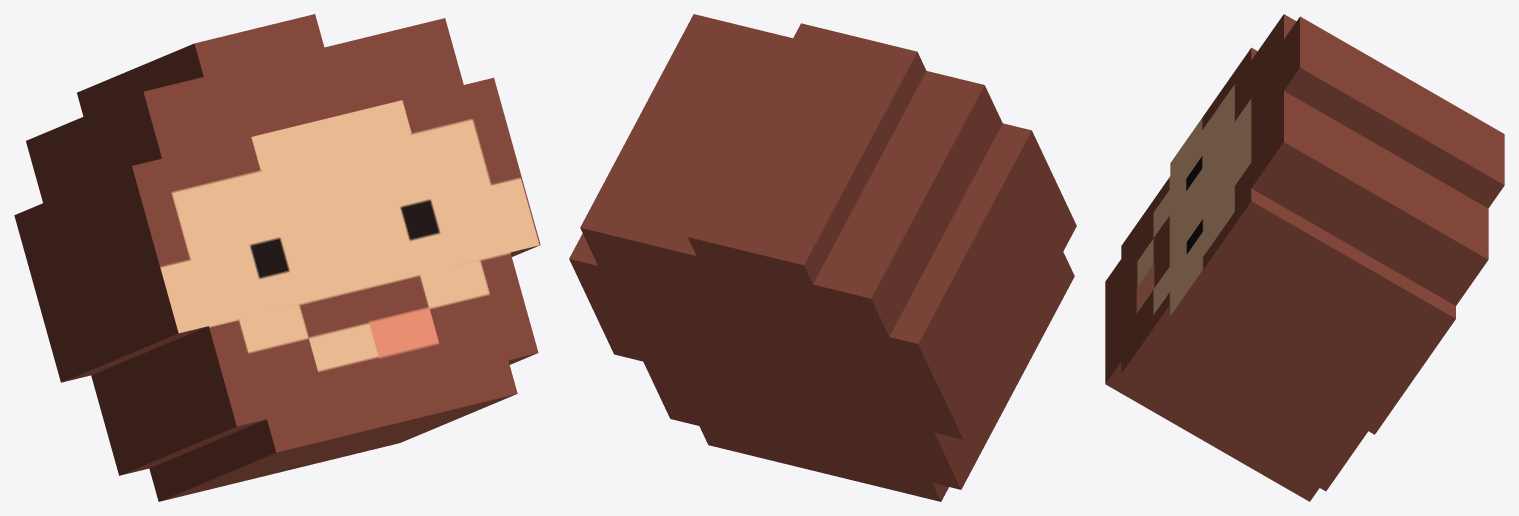
File: head_2.glb
The picture shows the model from 3 angles, left to right: view 1: azimuth 30°, elevation 25°; view 2: azimuth 150°, elevation 25°; view 3: azimuth 270°, elevation 25°; orthographic projection. The views are drawn at different scales.
Parts seen in each view (by area): view 1: head; view 2: head; view 3: head.
Boxes of the visible parts, x1=… form: head: x1=14, y1=14, x2=540, y2=501; head: x1=569, y1=14, x2=1076, y2=501; head: x1=1105, y1=14, x2=1504, y2=501.
Bounding box in the file's own units: 0.0771 × 0.0926 × 0.0847.
Materials: 1 (1 with a texture image).
